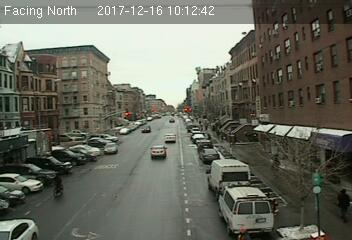bicycle: (49, 171, 66, 199)
car: (200, 147, 220, 162), (150, 145, 167, 159), (104, 142, 116, 154), (164, 133, 176, 143)
police: (216, 182, 272, 232)
truck: (206, 159, 250, 195)
